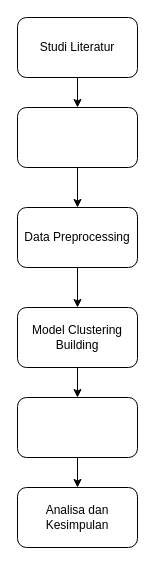
Some shapes in this 155 by 565 pixel diagram are drawn without their labels. Each missing label, with the box of its shape:
Data Preparation: (16, 106, 138, 168)
Fitting Model: (16, 396, 138, 458)
